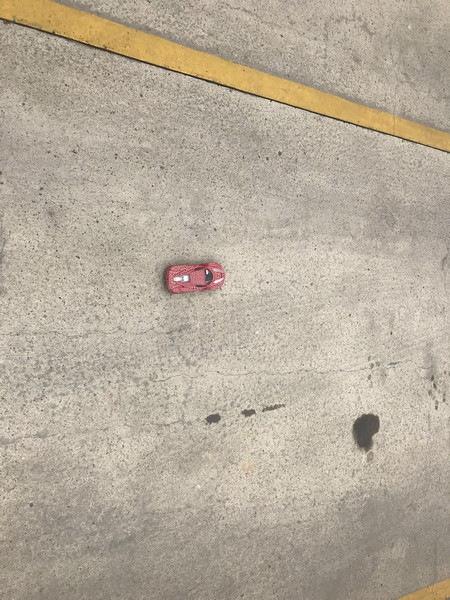RC: (162, 260, 227, 293)
